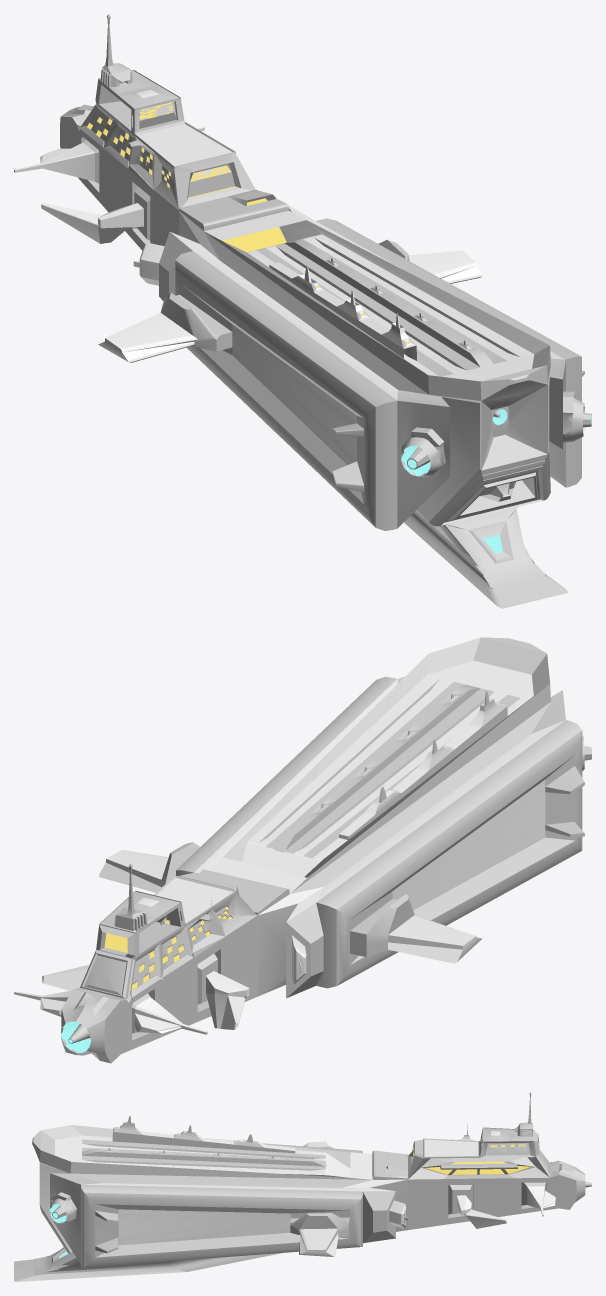
File: aegis.glb
3 renders of one model, top to bottom at view 1: azimuth 30°, elevation 25°; view 2: azimuth 150°, elevation 25°; view 3: azimuth 270°, elevation 25°, orthographic. The views are drawn at different scales.
Parts seen in each view (by area): view 1: large spaceship; view 2: large spaceship; view 3: large spaceship.
Boxes of the visible parts, bbox=[...] form: large spaceship: bbox=[14, 14, 591, 608]; large spaceship: bbox=[14, 637, 591, 1063]; large spaceship: bbox=[14, 1092, 591, 1281].
Bounding box in the file's own units: 2.53 × 1.91 × 5.69.
